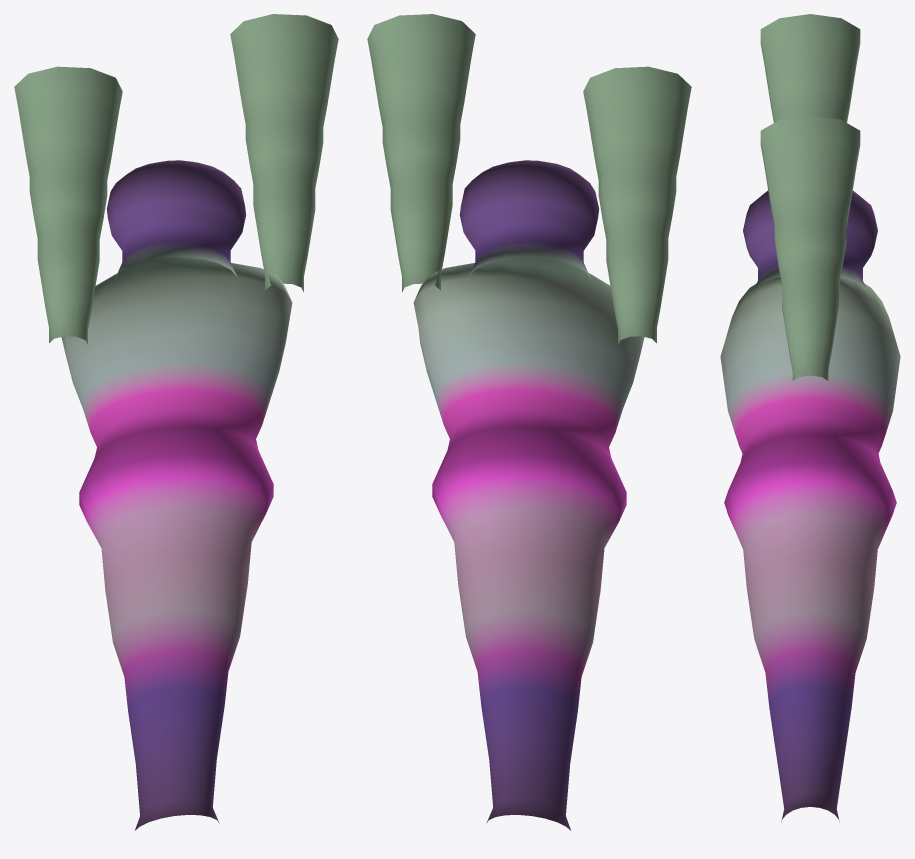
The model's file is avatar-male.glb.
3 views of the same model, side by side, from view 1: azimuth 30°, elevation 25°; view 2: azimuth 150°, elevation 25°; view 3: azimuth 270°, elevation 25° (orthographic). The views are drawn at different scales.
Visible parts, largest first — view 1: BodyNode; view 2: BodyNode; view 3: BodyNode.
Boxes of the visible parts, x1,y1,x2,y2 form: BodyNode: (14, 14, 338, 830); BodyNode: (367, 14, 691, 830); BodyNode: (720, 14, 900, 821).
Bounding box in the file's own units: 0.92 × 2.17 × 0.48.
